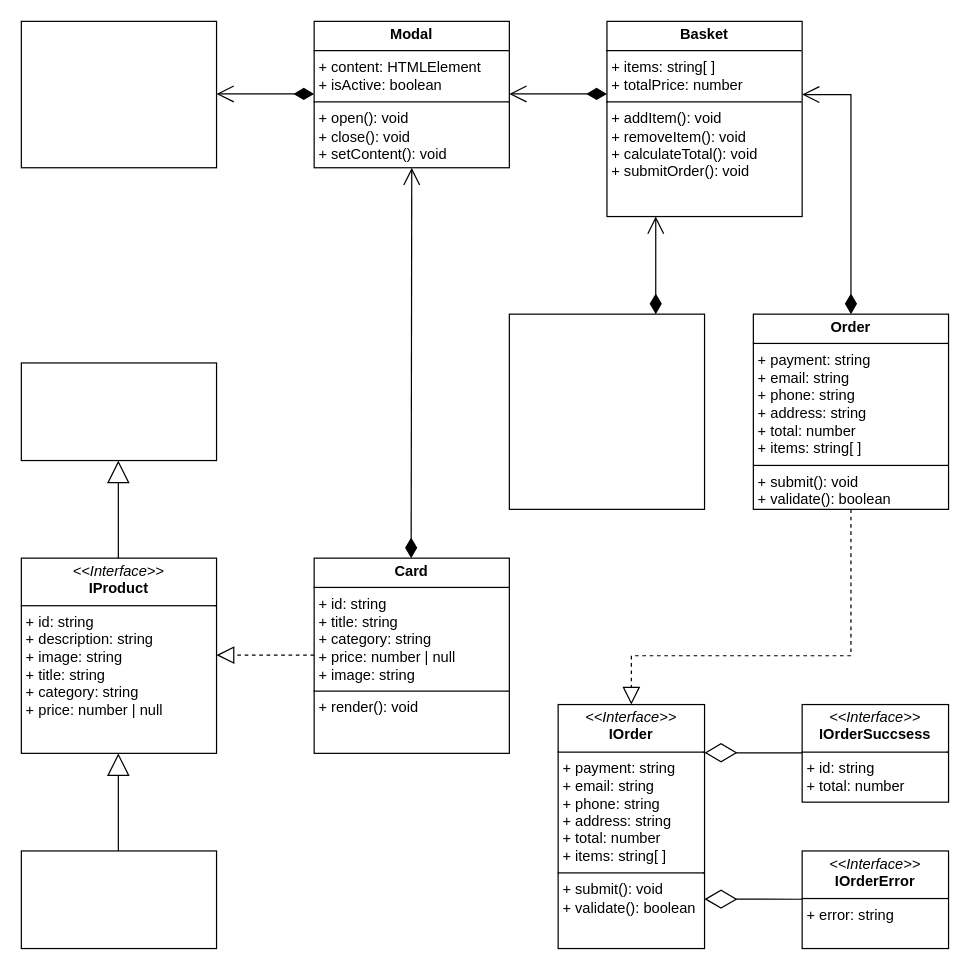
Image size: 970x970. Some labels were removed from this diagram. The centre of each missing label's shape, as x and y in pixels:
"<<Interface>> IProductList + total: number + items: IProduct[ ]" goes at pixel 118 411.
"<<Interface>> IProductNotFound + error: string" goes at pixel 118 899.
"Contacts + email: string + phone: string + submit(): void + validate(): boolean" goes at pixel 606 411.
"Header + logo: string + basketCounter: number + render(): void" goes at pixel 118 94.
